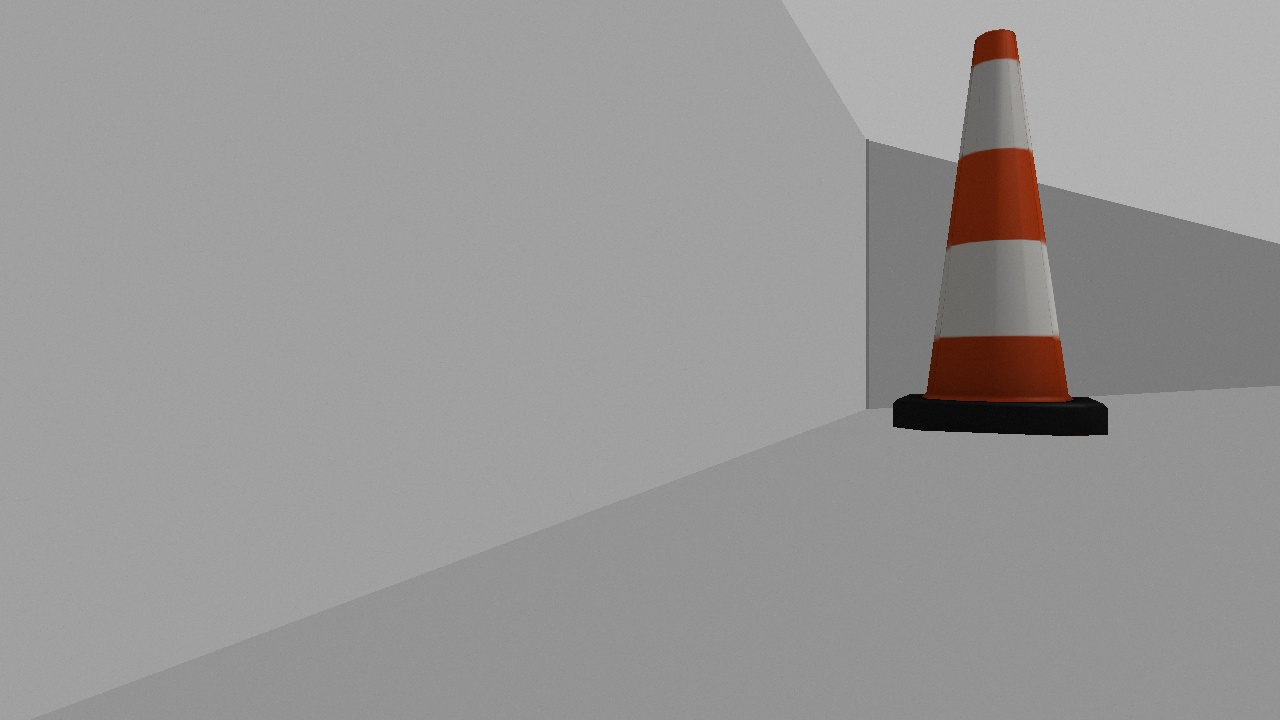barricade: (881, 24, 1121, 461)
